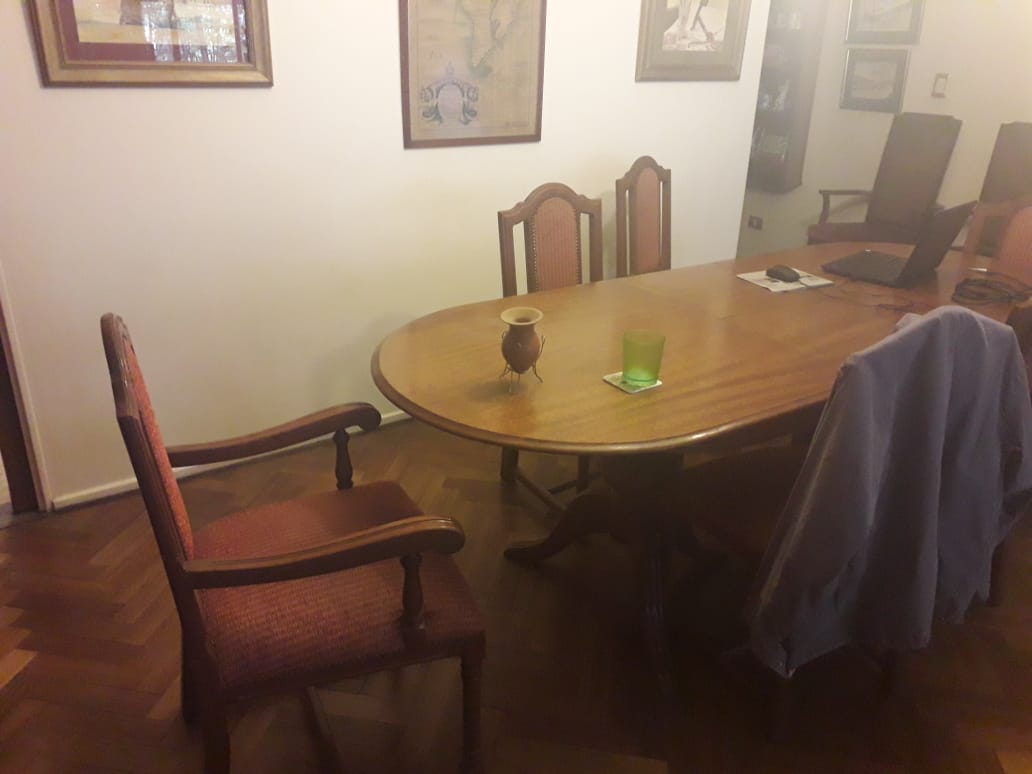calabaza: (496, 303, 546, 385)
mate: (498, 305, 548, 387)
